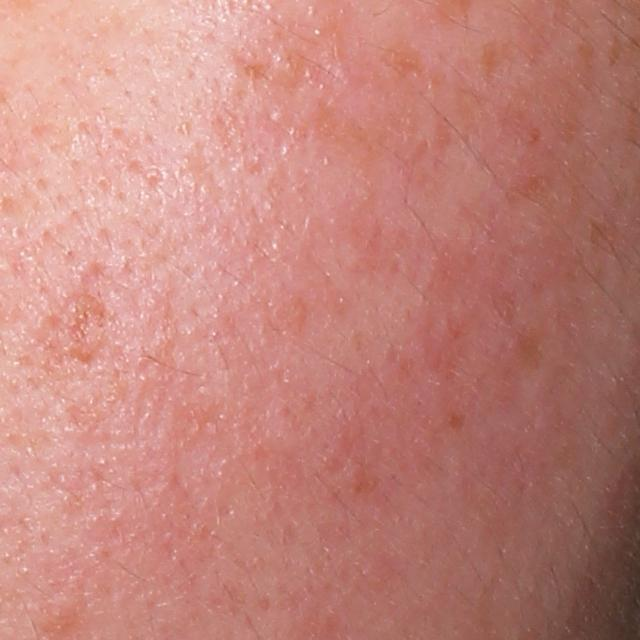melasma: (374, 36, 448, 109), (475, 37, 518, 89)
